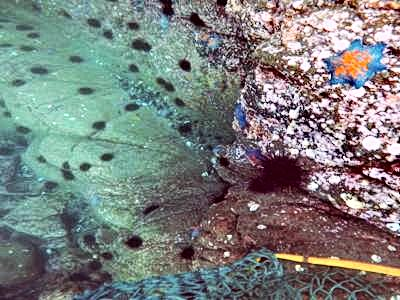urchin: (263, 152, 304, 182), (244, 175, 274, 190), (178, 245, 199, 258), (178, 59, 193, 71), (126, 235, 140, 246)
